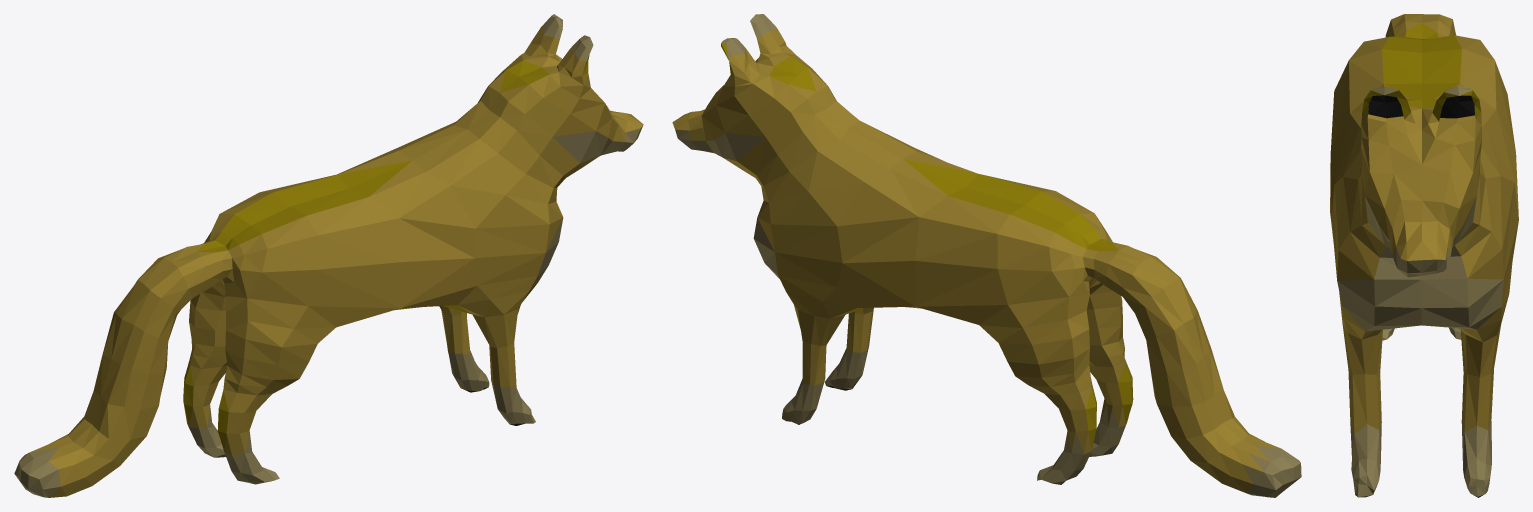
File: Dog.fbx
The picture shows the model from 3 angles, left to right: view 1: azimuth 30°, elevation 25°; view 2: azimuth 150°, elevation 25°; view 3: azimuth 270°, elevation 25°; orthographic projection. The views are drawn at different scales.
Parts seen in each view (by area): view 1: Cube; view 2: Cube; view 3: Cube.
Part boxes in pixels (x1,y1,x2,y2): Cube: [14, 14, 643, 497]; Cube: [672, 14, 1301, 497]; Cube: [1330, 14, 1518, 497].
Size of the model in its own units: 618 by 348 by 132.
